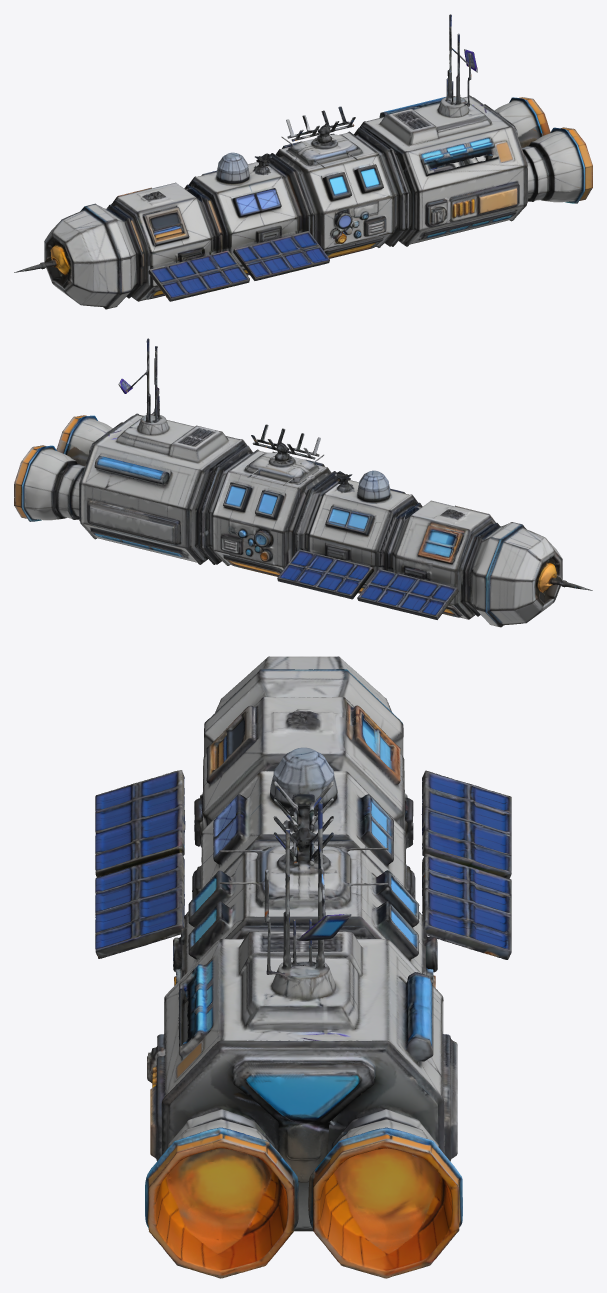
The model's file is synapse.glb.
3 renders of one model, top to bottom at view 1: azimuth 30°, elevation 25°; view 2: azimuth 150°, elevation 25°; view 3: azimuth 270°, elevation 25°, orthographic. The views are drawn at different scales.
Bounding box in the file's own units: 1.9 × 0.6659 × 0.6338.
Materials: 1 (1 with a texture image).
